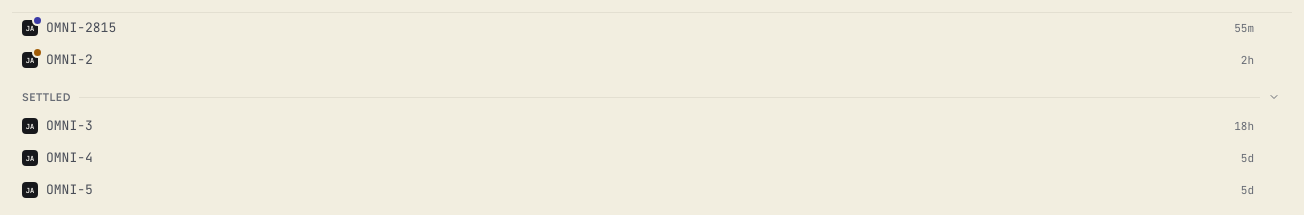
Test: the sessions list › the hover card › carries the row's own number as well as the other when the sidebar is the rail
The image size is (1304, 215).
Hover over the button "JA OMNI-2815 55m" at [81, 27], box [12,13,1266,43]
Wait 120 ms
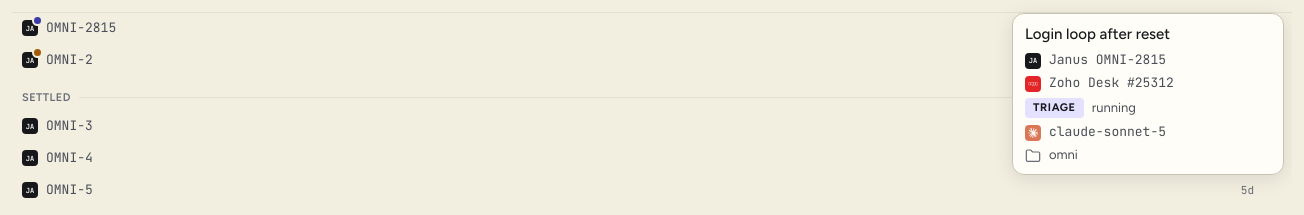
Expected: the list item with class "sd-session-card__row" shows "Janus OMNI-2815", [1049,51,1166,68]
Expected: the list item with class "sd-session-card__row" reads "Zoho Desk #25312", [1049,74,1174,91]
